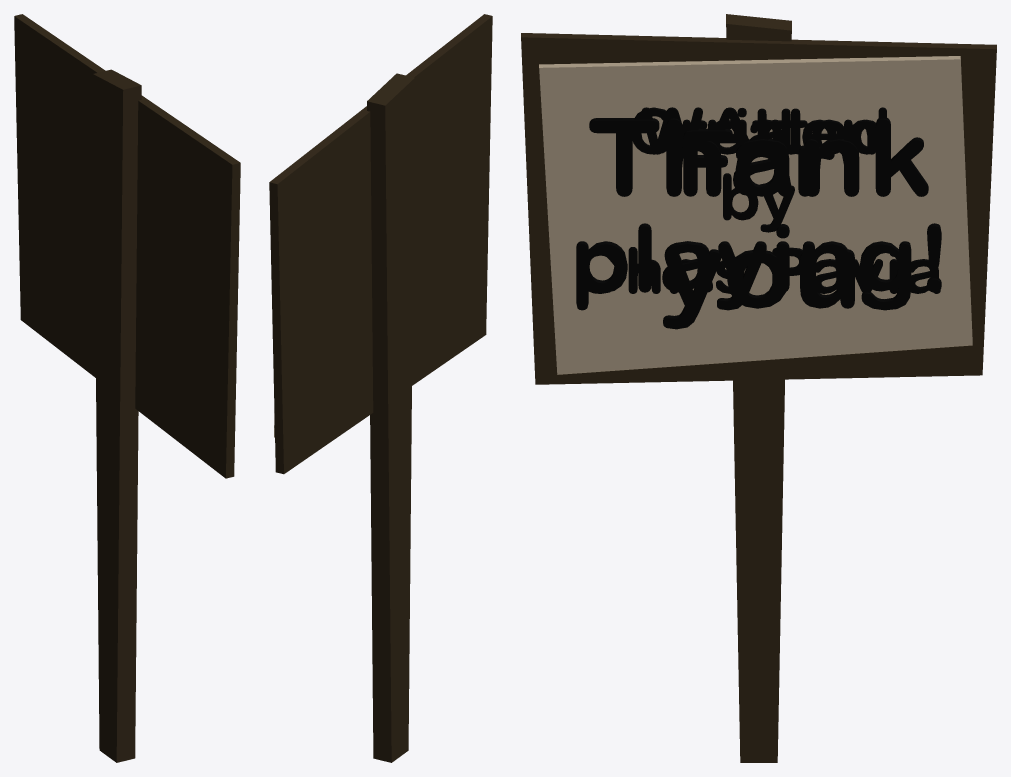
The model's file is Sign_Credits.fbx.
The picture shows the model from 3 angles, left to right: view 1: azimuth 30°, elevation 25°; view 2: azimuth 150°, elevation 25°; view 3: azimuth 270°, elevation 25°; orthographic projection. The views are drawn at different scales.
Parts seen in each view (by area): view 1: Cube_1, Cube; view 2: Cube_1, Cube; view 3: Cube_2, Cube_1, Cube, Connect_5, Connect_4, Connect_2, Connect, Connect_3, Connect_1.
Part boxes in pixels (bbox=[...]): Cube_1: bbox=[14, 14, 240, 478]; Cube: bbox=[93, 69, 141, 762]; Cube_1: bbox=[269, 14, 492, 474]; Cube: bbox=[367, 73, 414, 762]; Cube_2: bbox=[539, 56, 972, 374]; Cube_1: bbox=[521, 33, 996, 384]; Cube: bbox=[726, 14, 791, 762]; Connect_5: bbox=[576, 128, 941, 310]; Connect_4: bbox=[589, 118, 928, 329]; Connect_2: bbox=[641, 107, 875, 220]; Connect: bbox=[588, 247, 940, 293]; Connect_3: bbox=[712, 107, 807, 232]; Connect_1: bbox=[632, 107, 886, 154].
Size of the model in its own units: 2.34 by 40.74 by 23.78.
1 material, 1 textured.
